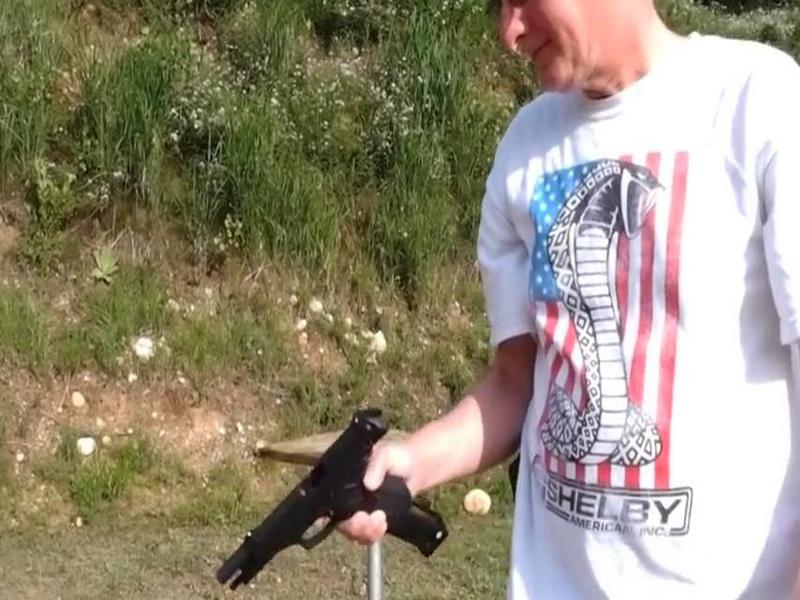Pistola: (202, 394, 466, 584)
